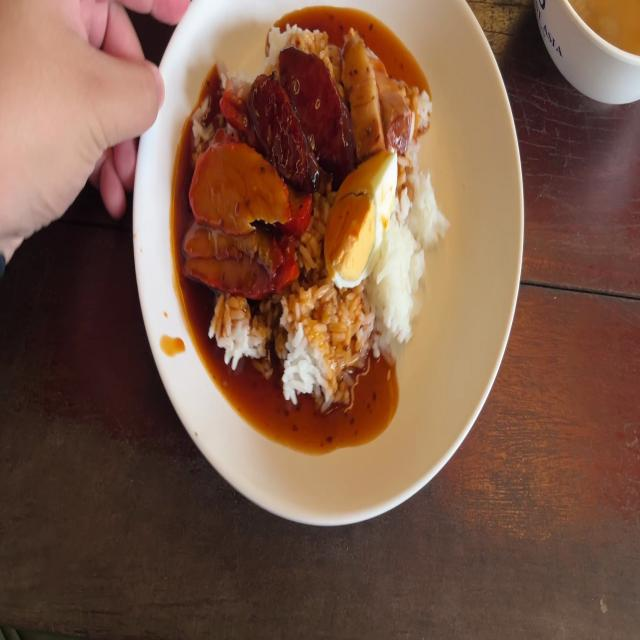01boiled_egg: (330, 148, 397, 282)
01chainese_sausage: (255, 42, 348, 181)
01crispy_pork: (344, 23, 407, 154)
01red_pork: (188, 140, 289, 277)
01red_pork_and_crispy_pork: (192, 21, 438, 385)
01rice: (281, 282, 362, 388), (378, 231, 419, 330), (214, 288, 266, 358)
